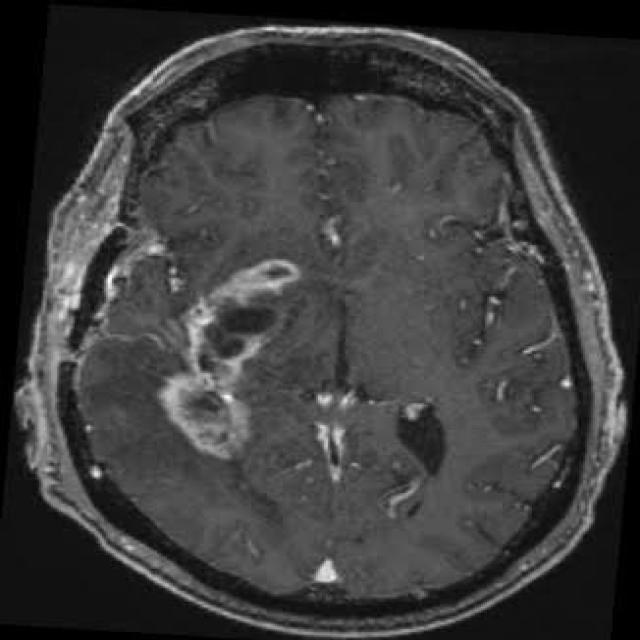tumor: (183, 243, 294, 463)
